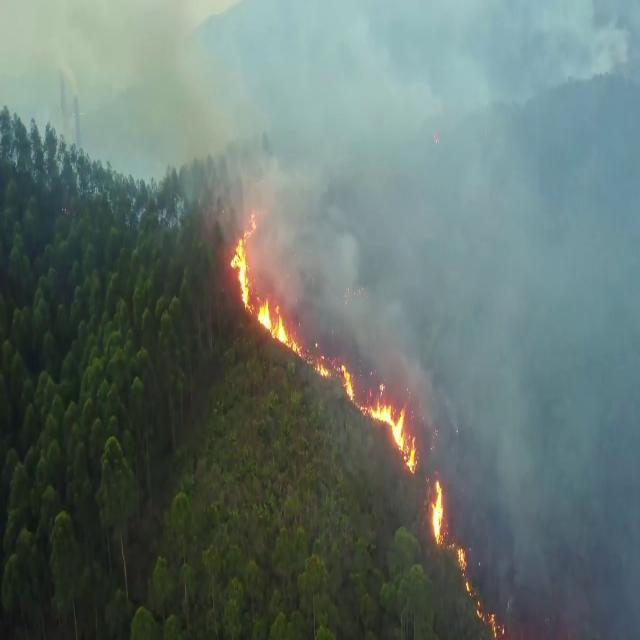Fire: (229, 208, 418, 476), (456, 545, 504, 640), (430, 476, 444, 545)
Smoke: (0, 1, 640, 640)
